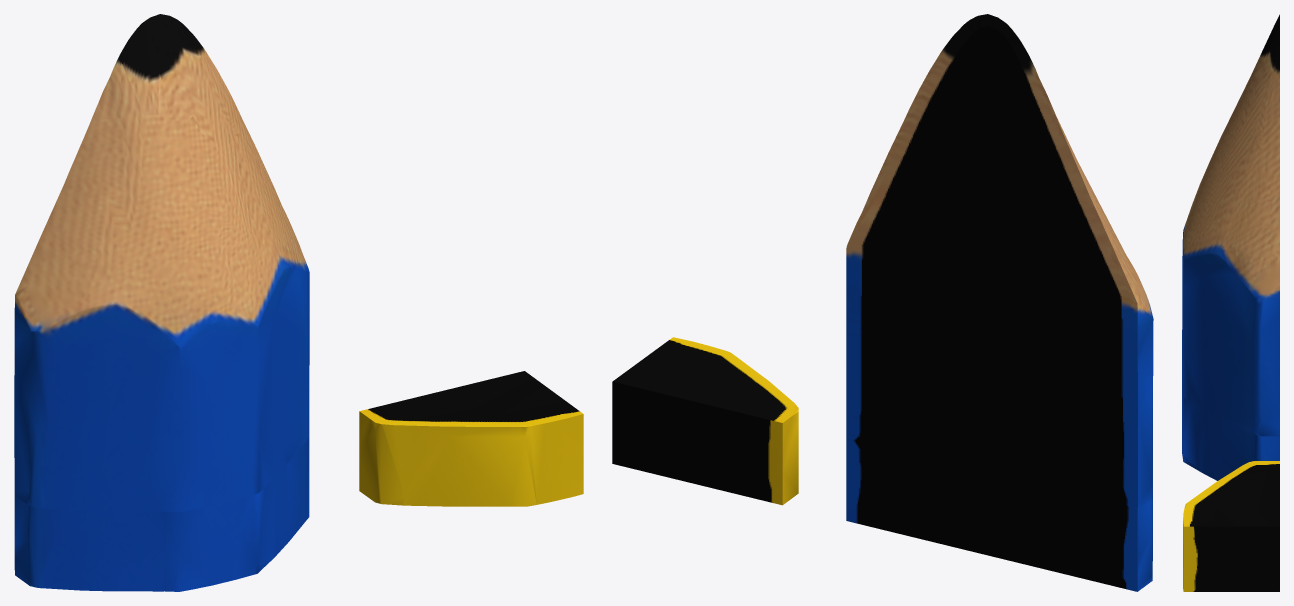
Rendered from 9-roof-front-left.fbx.
3 renders of one model, left to right at view 1: azimuth 30°, elevation 25°; view 2: azimuth 150°, elevation 25°; view 3: azimuth 270°, elevation 25°, orthographic. The views are drawn at different scales.
Visible parts, largest first — view 1: roof-front-left; view 2: roof-front-left; view 3: roof-front-left.
Boxes of the visible parts, left/top/right/bottom form: roof-front-left: left=14, top=14, right=583, bottom=591; roof-front-left: left=612, top=14, right=1153, bottom=591; roof-front-left: left=1182, top=14, right=1279, bottom=591.
Bounding box in the file's own units: 3462 × 3407 × 704.
Materials: 1 (1 with a texture image).
